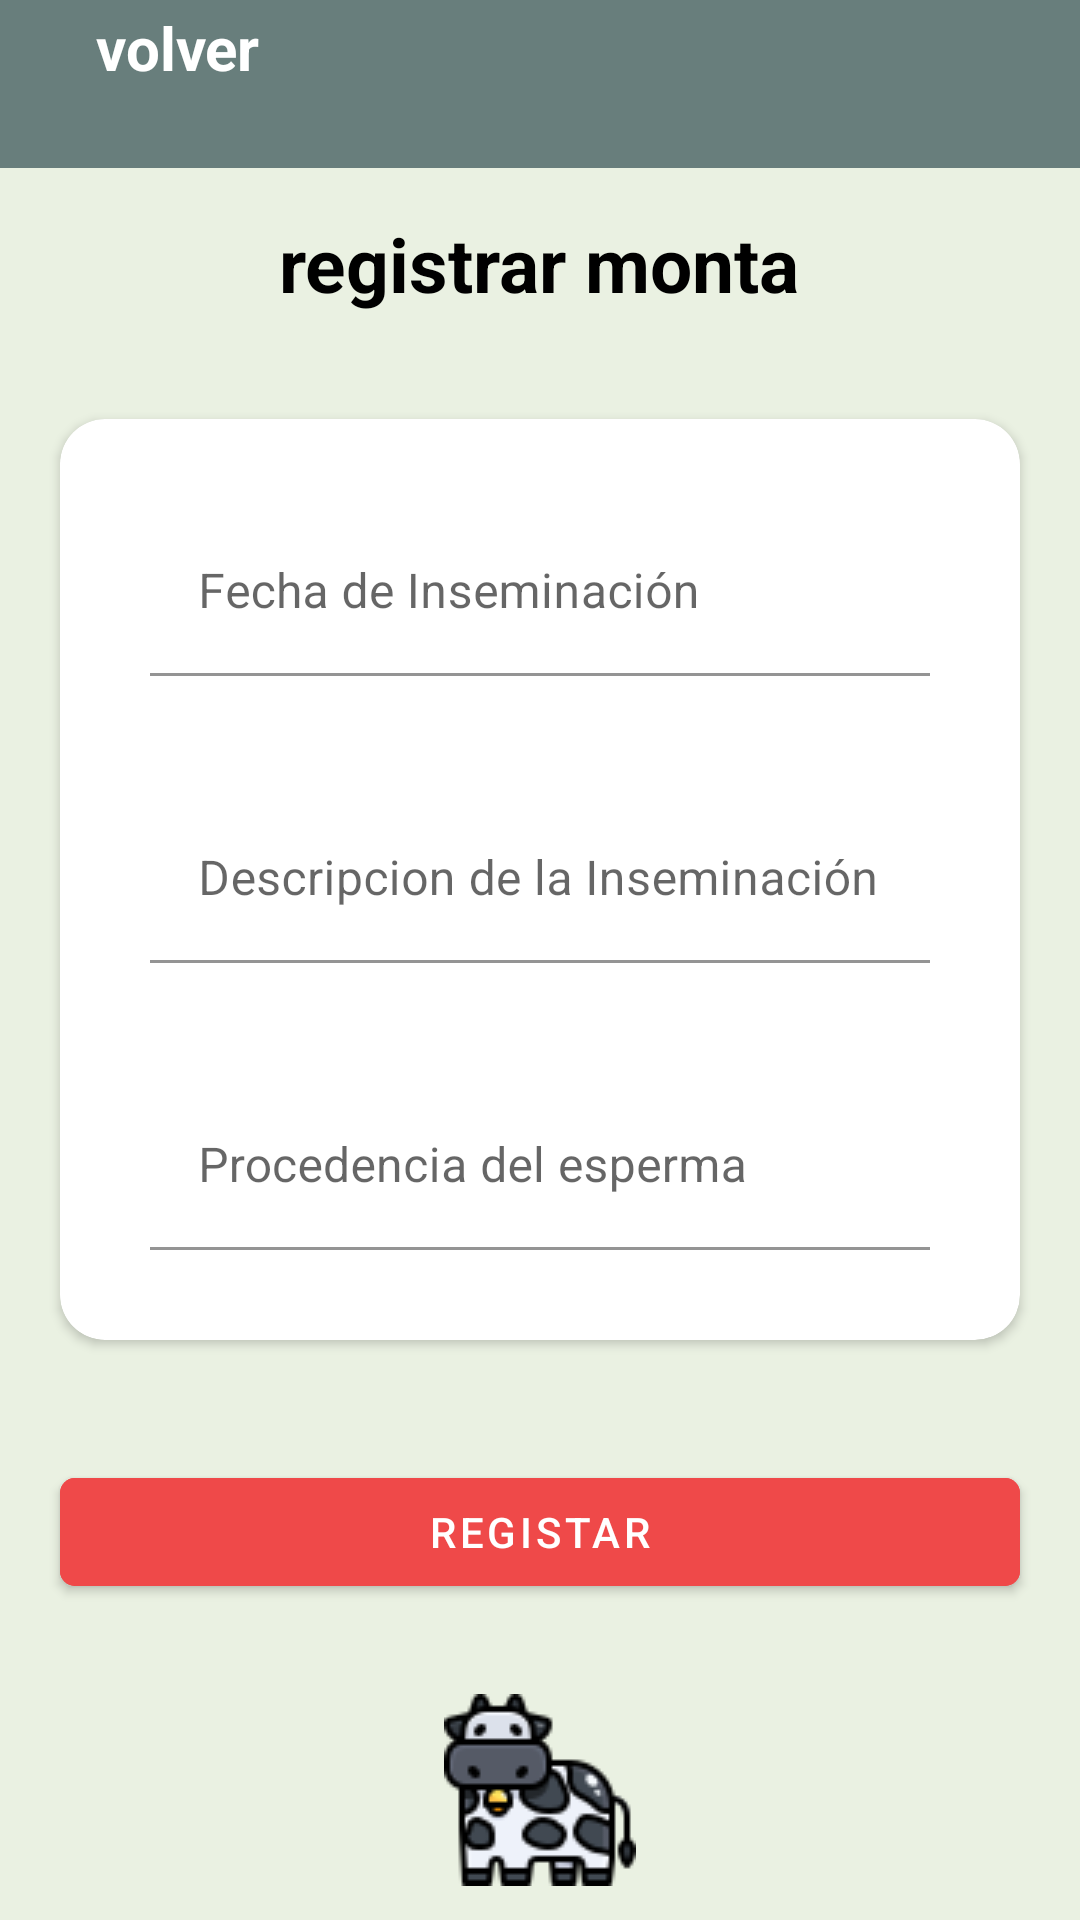

Locate icon controls on the screen. Image size 1080 x 1920, boxes as bbox=(x1, y1, x2, y2).
cow: bbox=(444, 1694, 636, 1886)
